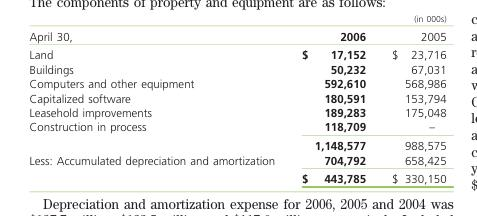table: (28, 28, 445, 184)
table column: (28, 28, 287, 184), (287, 28, 378, 184), (378, 28, 445, 184)
table column header: (28, 28, 445, 44)
table row: (28, 44, 445, 61), (28, 135, 445, 152), (28, 28, 445, 44), (28, 119, 445, 135), (28, 152, 445, 168), (28, 168, 445, 184), (28, 75, 445, 90), (28, 104, 445, 119), (28, 61, 445, 75), (28, 90, 445, 104)
